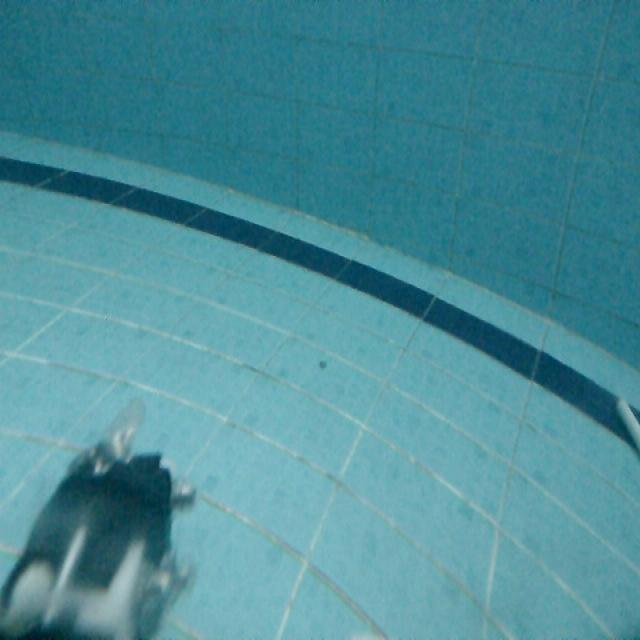Cube: (617, 390, 640, 457)
